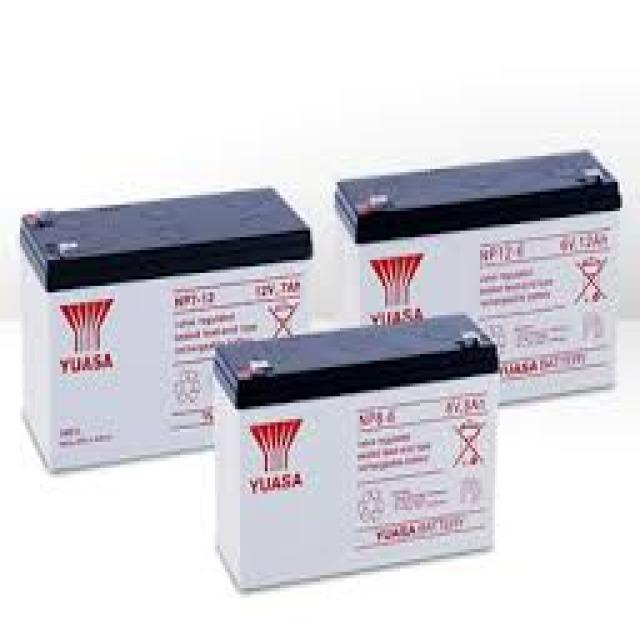Battery: (1, 170, 306, 476), (194, 317, 519, 587), (333, 152, 640, 415)
